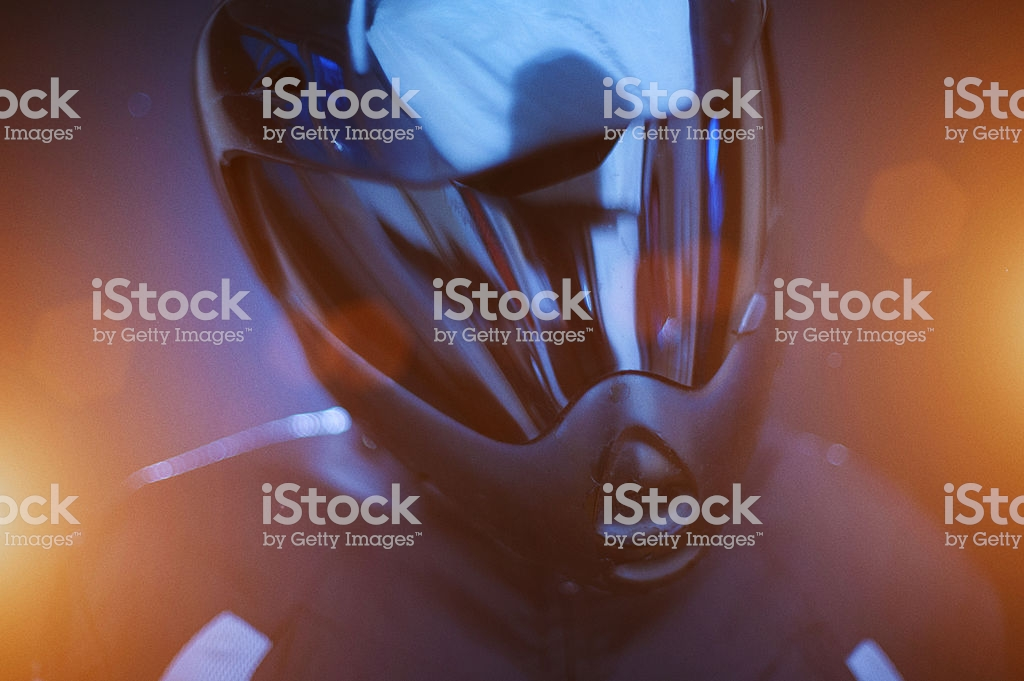helmet: (197, 11, 772, 547)
